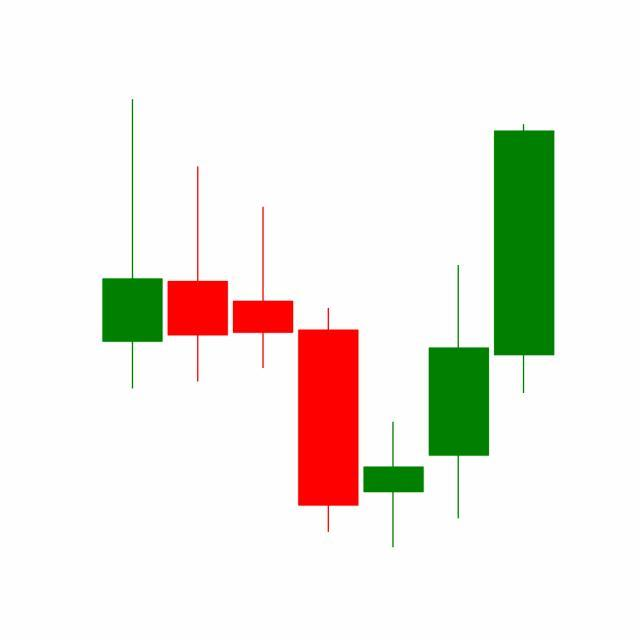Hikkake Pattern: (229, 120, 555, 549)
